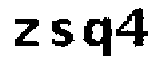4: (114, 4, 151, 51)
q: (81, 17, 114, 60)
s: (44, 18, 77, 49)
z: (9, 12, 41, 50)
